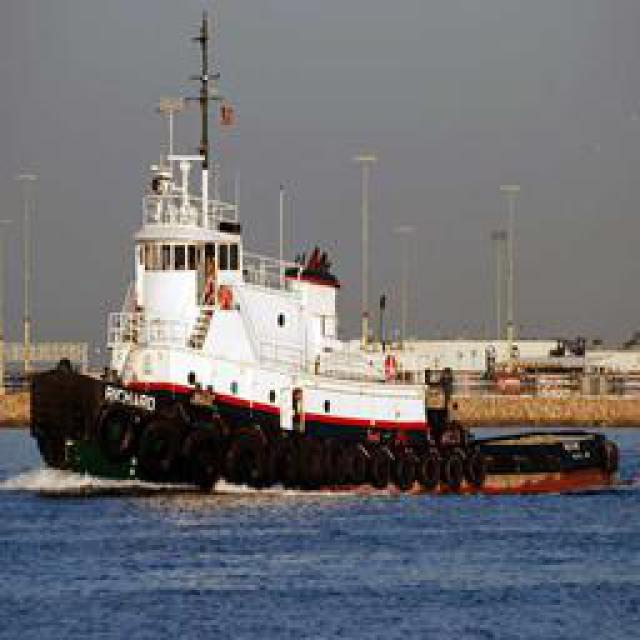Ship: (63, 69, 528, 479)
